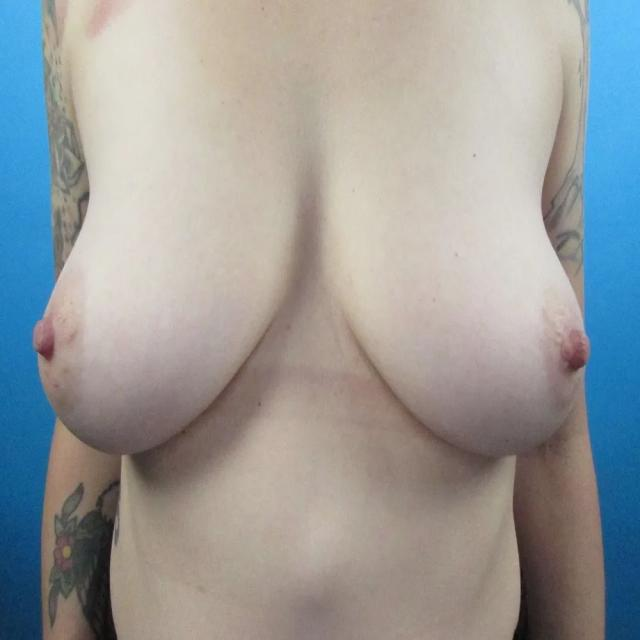Seno ileso: (27, 109, 303, 487), (320, 114, 596, 485)
